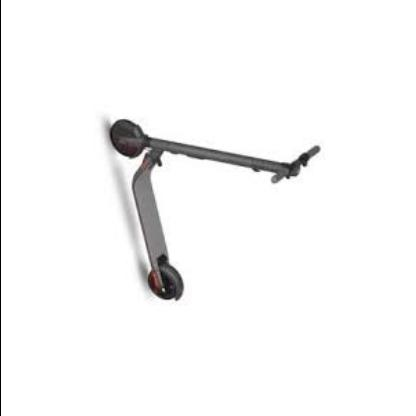bike: (108, 118, 322, 302)
